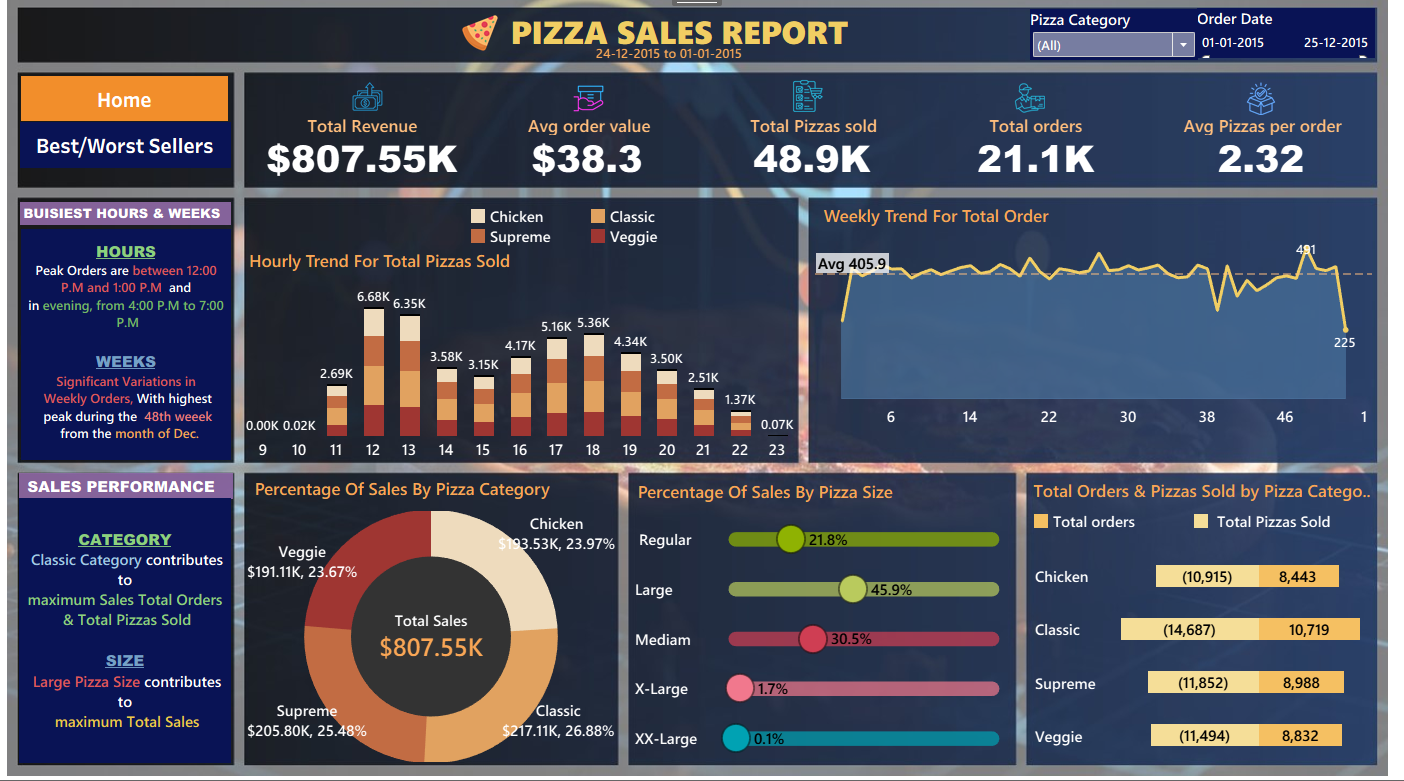

Layout of this report page (visuals, bound fields, positions):
{"tool":"tableau","page":{"name":" Home","canvas":[1000,1000],"units":"permille","ordinal":1},"visuals":[{"type":"image","param":"C:/Users/Hp/Downloads/Pizza Tableau 1.jpg","box":[4.9,8.9,990.2,982.2]},{"type":"text","box":[371.7,26.7,234.6,57.8]},{"type":"filter","title":"Sheet 2","param":"[federated.0fak2td183jzbk13l1hs61boe023].[none:order_date:qk]","box":[823.9,26.7,142,64.4]},{"type":"filter","title":"Sheet 2","param":"[federated.0fak2td183jzbk13l1hs61boe023].[none:pizza_category:nk]","box":[719.7,30,101.8,62.2]},{"type":"image","param":"C:/Users/Hp/OneDrive/Pictures/aa/pizza-slice.png","box":[354.1,33.3,29.2,46.7]},{"type":"worksheet","title":" Date Range","mark":"Automatic","box":[419.3,74.4,126.8,14.4]},{"type":"dashboard-object","box":[45.7,112.2,129.8,56.7]},{"type":"image","param":"C:/Users/Hp/OneDrive/Pictures/aa/delivery-man.png","box":[716,113.3,25,38.9]},{"type":"image","param":"C:/Users/Hp/OneDrive/Pictures/aa/profit-growth.png","box":[254.7,114.4,26.2,43.3]},{"type":"image","param":"C:/Users/Hp/OneDrive/Pictures/aa/order-delivery.png","box":[567.3,116.7,23.2,41.1]},{"type":"image","param":"C:/Users/Hp/OneDrive/Pictures/aa/shipping-box.png","box":[407.1,117.8,28.6,42.2]},{"type":"image","param":"C:/Users/Hp/OneDrive/Pictures/aa/order (1).png","box":[871.4,117.8,25.6,41.1]},{"type":"worksheet","title":"Sheet 1","mark":"Automatic","box":[199.9,160,749.9,82.2]},{"type":"dashboard-object","box":[43.3,176.7,131.6,57.8]},{"type":"text","box":[33.5,262.2,148.1,33.3]},{"type":"worksheet","title":"Sheet 3","mark":"Area","rows":["Calculation_1392175235354329089","Calculation_1392175235354329089"],"cols":["order_date"],"box":[576,265.6,374.9,324.4]},{"type":"legend","title":"Sheet 2","param":"[federated.0fak2td183jzbk13l1hs61boe023].[none:pizza_category:nk]","box":[361.3,273.3,202.2,60]},{"type":"text","box":[32.9,297.8,148.7,293.3]},{"type":"worksheet","title":"Sheet 2","mark":"Bar","rows":["Calculation_1392175235355373571","Calculation_1392175235355373571"],"cols":["order_time"],"box":[202.2,322.2,360.7,267.8]},{"type":"worksheet","title":"Sheet 4","mark":"Pie","rows":["Calculation_980377345854406657","Calculation_980377345854435331"],"box":[192.6,606.7,252.9,365.6]},{"type":"text","box":[33.5,607.8,147.5,33.3]},{"type":"worksheet","title":"Sheet 5","mark":"Line","rows":["pizza_size"],"box":[455.4,611.1,254.9,357.8]},{"type":"text","box":[728.2,617.8,213.9,33.3]},{"type":"text","box":[34.1,641.1,145.6,327.8]},{"type":"legend","title":"Sheet 6","param":"[federated.0fak2td183jzbk13l1hs61boe023].[:Measure Names]","box":[730,665.6,205.4,46.7]},{"type":"worksheet","title":"Sheet 6","mark":"Automatic","rows":["pizza_category"],"box":[721.5,702.2,231.2,258.9]}]}

Visuals, with their boxes on the dashboard's canvas, which has no fixed pixel size, in thousandths of its width and height (x1, y1, x2, y2). These are canvas units, not pixel positions in the 1404x781 screenshot, which may show the page scaled, cropped or inside an application window:
image: bbox=(5, 9, 995, 991)
text: bbox=(372, 27, 606, 84)
"Sheet 2" filter: bbox=(824, 27, 966, 91)
"Sheet 2" filter: bbox=(720, 30, 822, 92)
image: bbox=(354, 33, 383, 80)
" Date Range" worksheet: bbox=(419, 74, 546, 89)
dashboard-object: bbox=(46, 112, 176, 169)
image: bbox=(716, 113, 741, 152)
image: bbox=(255, 114, 281, 158)
image: bbox=(567, 117, 590, 158)
image: bbox=(407, 118, 436, 160)
image: bbox=(871, 118, 897, 159)
"Sheet 1" worksheet: bbox=(200, 160, 950, 242)
dashboard-object: bbox=(43, 177, 175, 234)
text: bbox=(34, 262, 182, 296)
"Sheet 3" worksheet (Area marks): bbox=(576, 266, 951, 590)
"Sheet 2" legend: bbox=(361, 273, 564, 333)
text: bbox=(33, 298, 182, 591)
"Sheet 2" worksheet (Bar marks): bbox=(202, 322, 563, 590)
"Sheet 4" worksheet (Pie marks): bbox=(193, 607, 446, 972)
text: bbox=(34, 608, 181, 641)
"Sheet 5" worksheet (Line marks): bbox=(455, 611, 710, 969)
text: bbox=(728, 618, 942, 651)
text: bbox=(34, 641, 180, 969)
"Sheet 6" legend: bbox=(730, 666, 935, 712)
"Sheet 6" worksheet: bbox=(722, 702, 953, 961)
